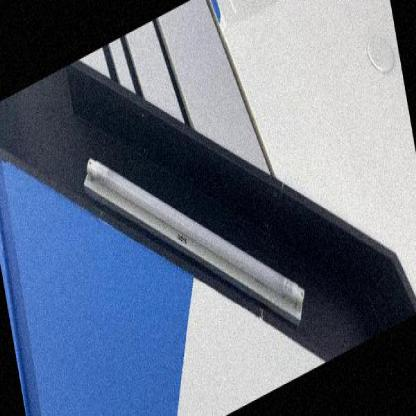light_off: (72, 50, 316, 415)
